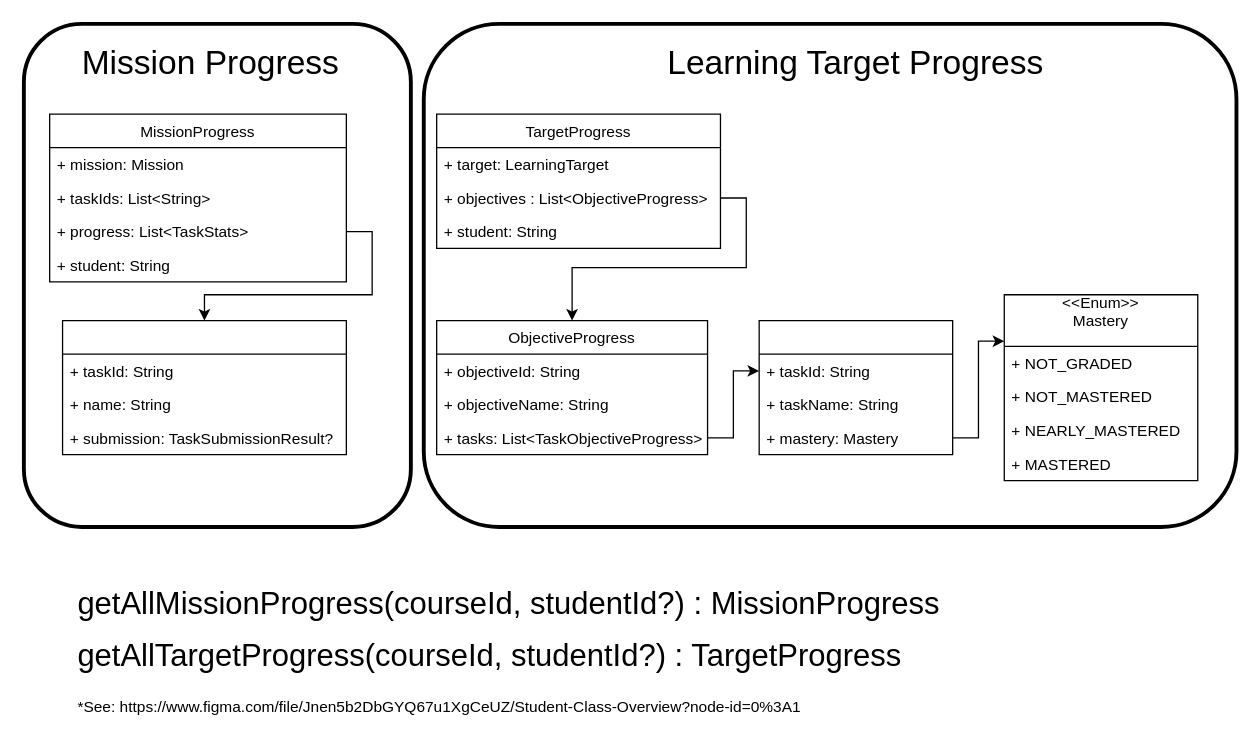
This 1260x743 diagram has some shape labels left out. The box of each missing label's shape, as (x1, y1, x2, y2) in pixels:
TaskObjectiveProgress: (758, 319, 953, 455)
TaskStats: (61, 319, 346, 455)
